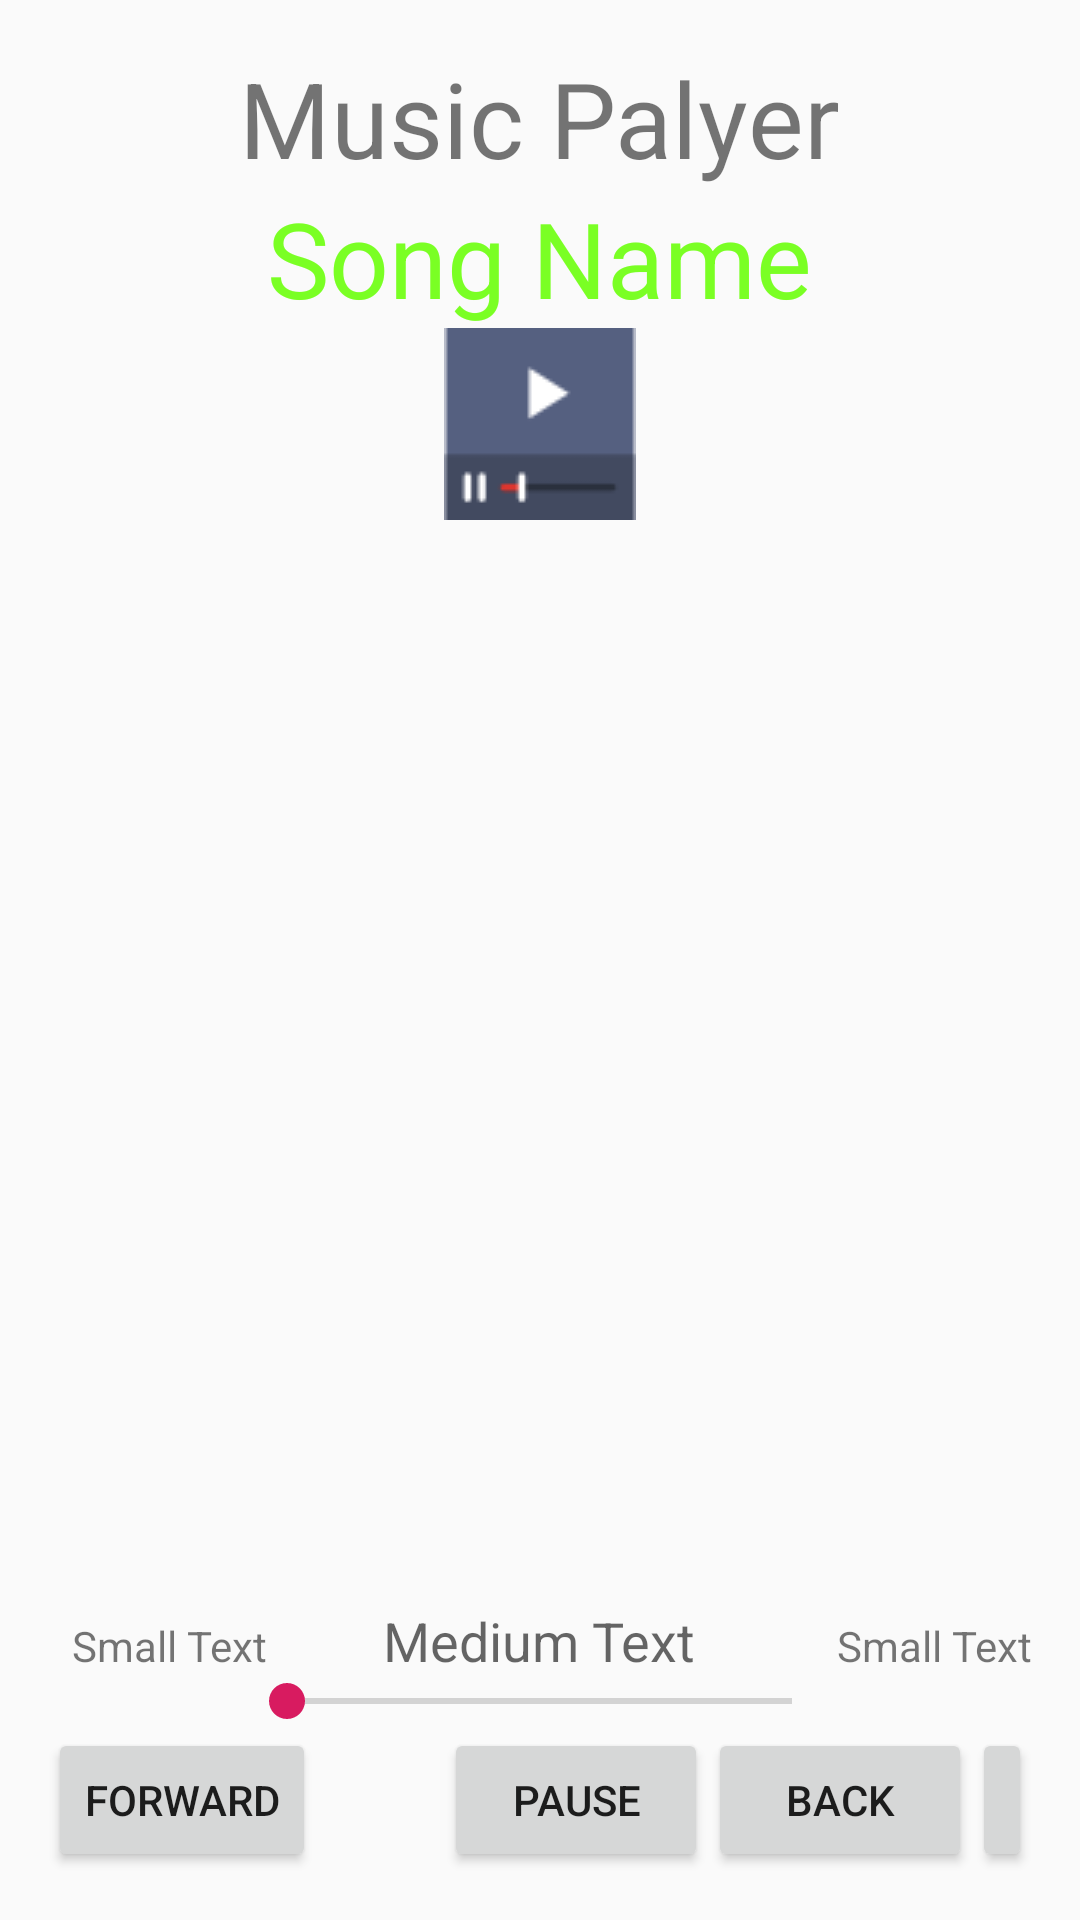

Locate icon controls on the screen. Image size 1080x1920, boxes as bbox=[x1, y1, x2, y2].
videor: bbox=[444, 328, 636, 520]
